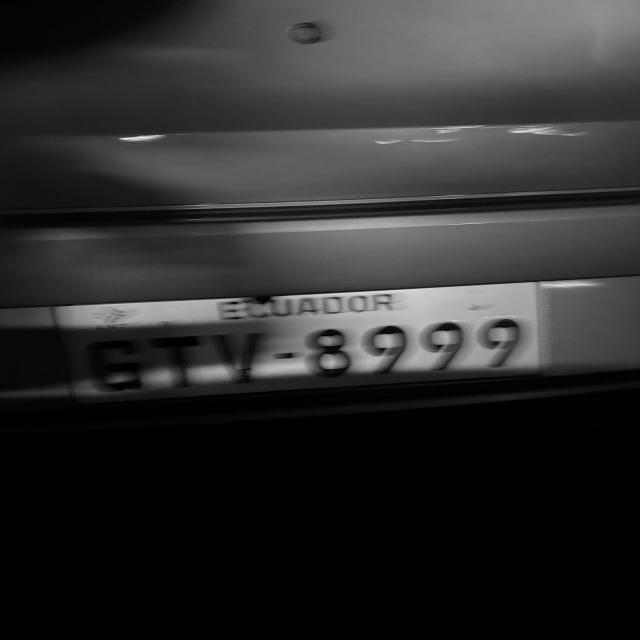Placa: (56, 283, 540, 402)
